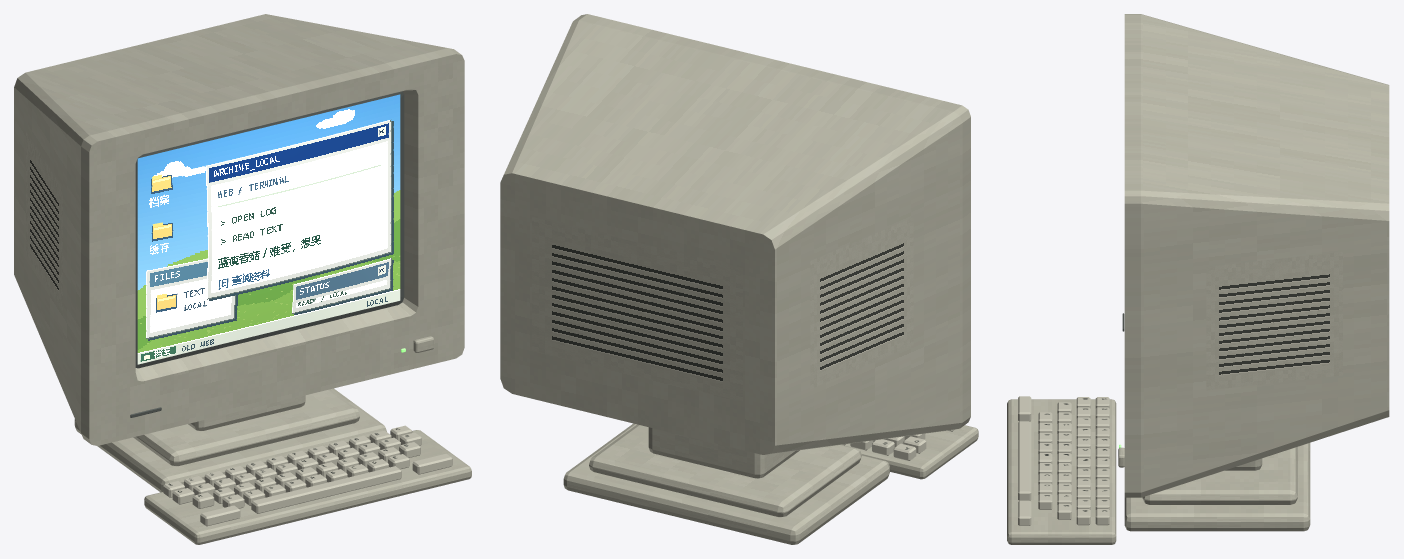
Rendered from OldTerminal_CRT_01.glb.
The picture shows the model from 3 angles, left to right: view 1: azimuth 30°, elevation 25°; view 2: azimuth 150°, elevation 25°; view 3: azimuth 270°, elevation 25°; orthographic projection. The views are drawn at different scales.
Parts seen in each view (by area): view 1: CRT_Asymmetric_Front_Bezel, CRT_Convex_4x3_Screen, CRT_Tapered_Rear_Housing, Keyboard_Low_Profile_Body, CRT_Layered_Upper_Base, CRT_Layered_Lower_Base, CRT_Side_Vents_-1, CRT_Recessed_Inner_Rim, Keyboard_Key_45, CRT_Short_Support, Keyboard_Key_44, Keyboard_Key_46; view 2: CRT_Tapered_Rear_Housing, CRT_Back_Vents, CRT_Side_Vents_-1, CRT_Layered_Upper_Base, CRT_Layered_Lower_Base, CRT_Asymmetric_Front_Bezel, CRT_Short_Support, Keyboard_Low_Profile_Body; view 3: CRT_Tapered_Rear_Housing, CRT_Side_Vents_1, Keyboard_Low_Profile_Body, CRT_Asymmetric_Front_Bezel, CRT_Layered_Lower_Base, CRT_Layered_Upper_Base, Keyboard_Key_45.
Part boxes in pixels (box(x1,y1,x2,y2)): CRT_Asymmetric_Front_Bezel: box(81, 48, 464, 445); CRT_Convex_4x3_Screen: box(137, 94, 400, 364); CRT_Tapered_Rear_Housing: box(14, 14, 447, 432); Keyboard_Low_Profile_Body: box(144, 430, 471, 544); CRT_Layered_Upper_Base: box(133, 389, 359, 466); CRT_Layered_Lower_Base: box(74, 388, 386, 492); CRT_Side_Vents_-1: box(26, 132, 62, 311); CRT_Recessed_Inner_Rim: box(135, 91, 404, 368); Keyboard_Key_45: box(251, 466, 401, 513); CRT_Short_Support: box(188, 395, 305, 430); Keyboard_Key_44: box(200, 505, 240, 526); Keyboard_Key_46: box(412, 453, 452, 474); CRT_Tapered_Rear_Housing: box(500, 20, 962, 454); CRT_Back_Vents: box(532, 217, 742, 401); CRT_Side_Vents_-1: box(810, 217, 913, 389); CRT_Layered_Upper_Base: box(589, 424, 861, 517); CRT_Layered_Lower_Base: box(563, 423, 889, 544); CRT_Asymmetric_Front_Bezel: box(573, 14, 970, 428); CRT_Short_Support: box(648, 427, 799, 478); Keyboard_Low_Profile_Body: box(841, 425, 978, 479); CRT_Tapered_Rear_Housing: box(1141, 14, 1389, 497); CRT_Side_Vents_1: box(1206, 251, 1342, 390); Keyboard_Low_Profile_Body: box(1007, 399, 1116, 544); CRT_Asymmetric_Front_Bezel: box(1124, 14, 1140, 497); CRT_Layered_Lower_Base: box(1124, 443, 1310, 531); CRT_Layered_Upper_Base: box(1142, 446, 1297, 504); Keyboard_Key_45: box(1018, 421, 1031, 500).
Bounding box in the file's own units: 0.8 × 0.76 × 0.7008.
6 materials, 4 textured.
